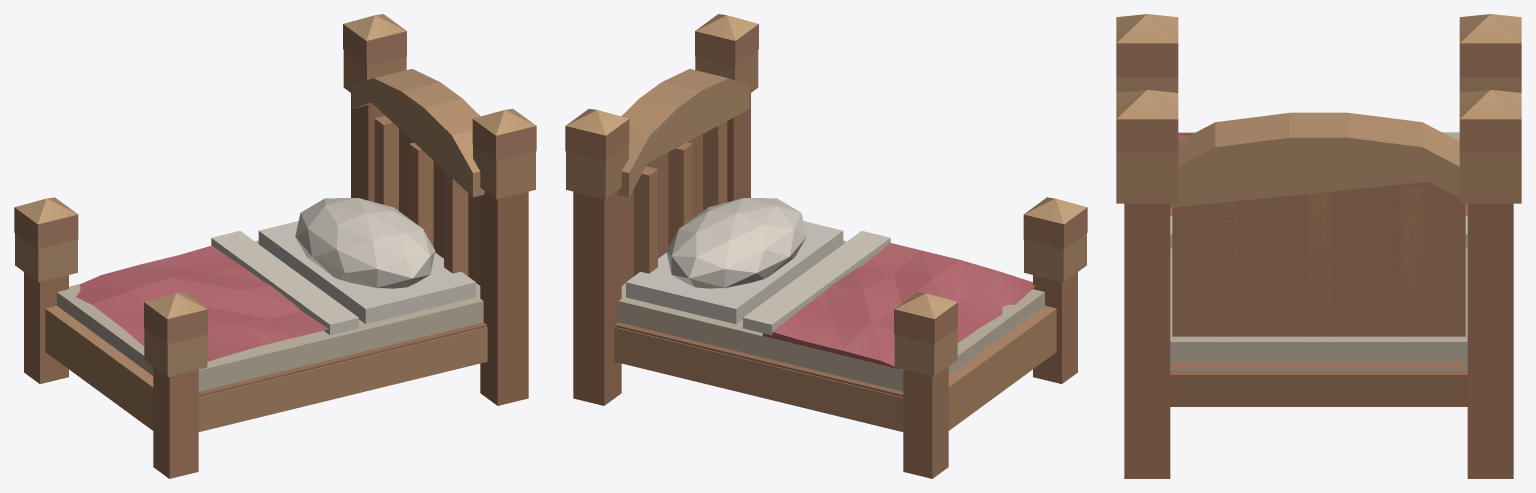
The model's file is bed.glb.
The picture shows the model from 3 angles, left to right: view 1: azimuth 30°, elevation 25°; view 2: azimuth 150°, elevation 25°; view 3: azimuth 270°, elevation 25°; orthographic projection. The views are drawn at different scales.
Visible parts, largest first — view 1: world; view 2: world; view 3: world.
Part boxes in pixels (x1=…): world: x1=14, y1=14, x2=536, y2=478; world: x1=565, y1=14, x2=1087, y2=478; world: x1=1116, y1=14, x2=1521, y2=478.
Size of the model in its own units: 3.82 by 2.83 by 2.74.
